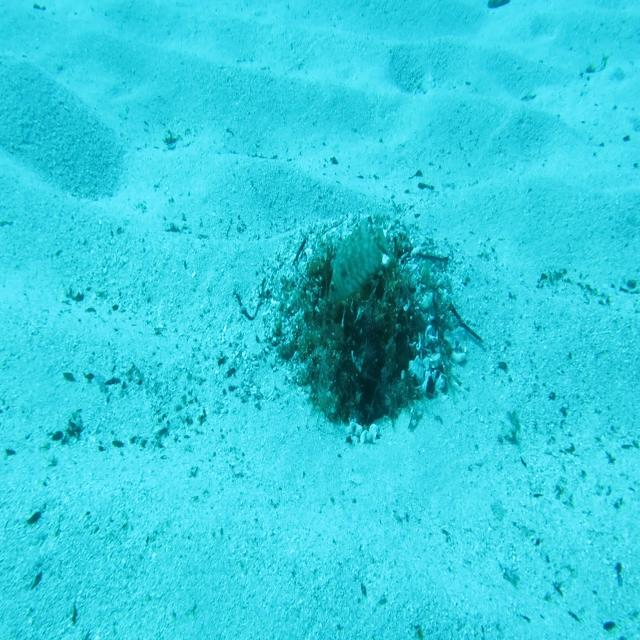NIP_IN: (327, 212, 397, 310)
core_nest: (334, 266, 391, 318)
nest: (250, 191, 478, 458)
vegetation: (487, 0, 513, 13)
